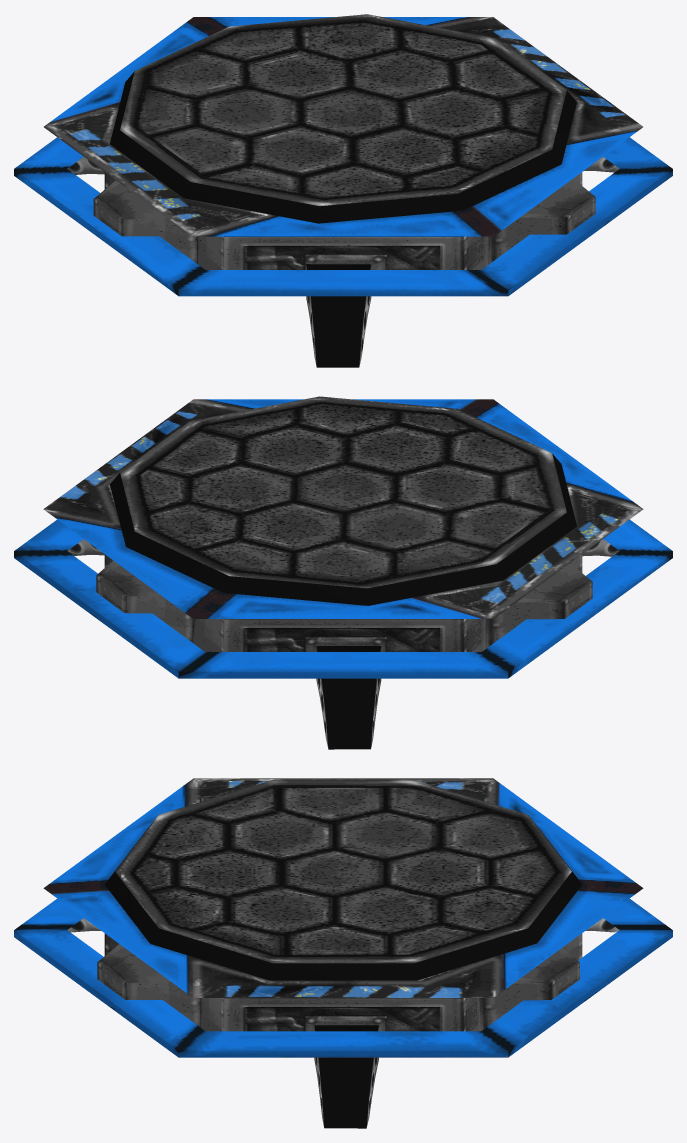
File: teleporter.glb
3 renders of one model, top to bottom at view 1: azimuth 30°, elevation 25°; view 2: azimuth 150°, elevation 25°; view 3: azimuth 270°, elevation 25°, orthographic.
Visible parts, largest first — view 1: teleporter; view 2: teleporter; view 3: teleporter.
Boxes of the visible parts, x1,y1,x2,y2 form: teleporter: (14,14,672,367); teleporter: (14,396,672,749); teleporter: (14,778,672,1128).
Bounding box in the file's own units: 53.79 × 11.48 × 57.84.
2 materials, 2 textured.
